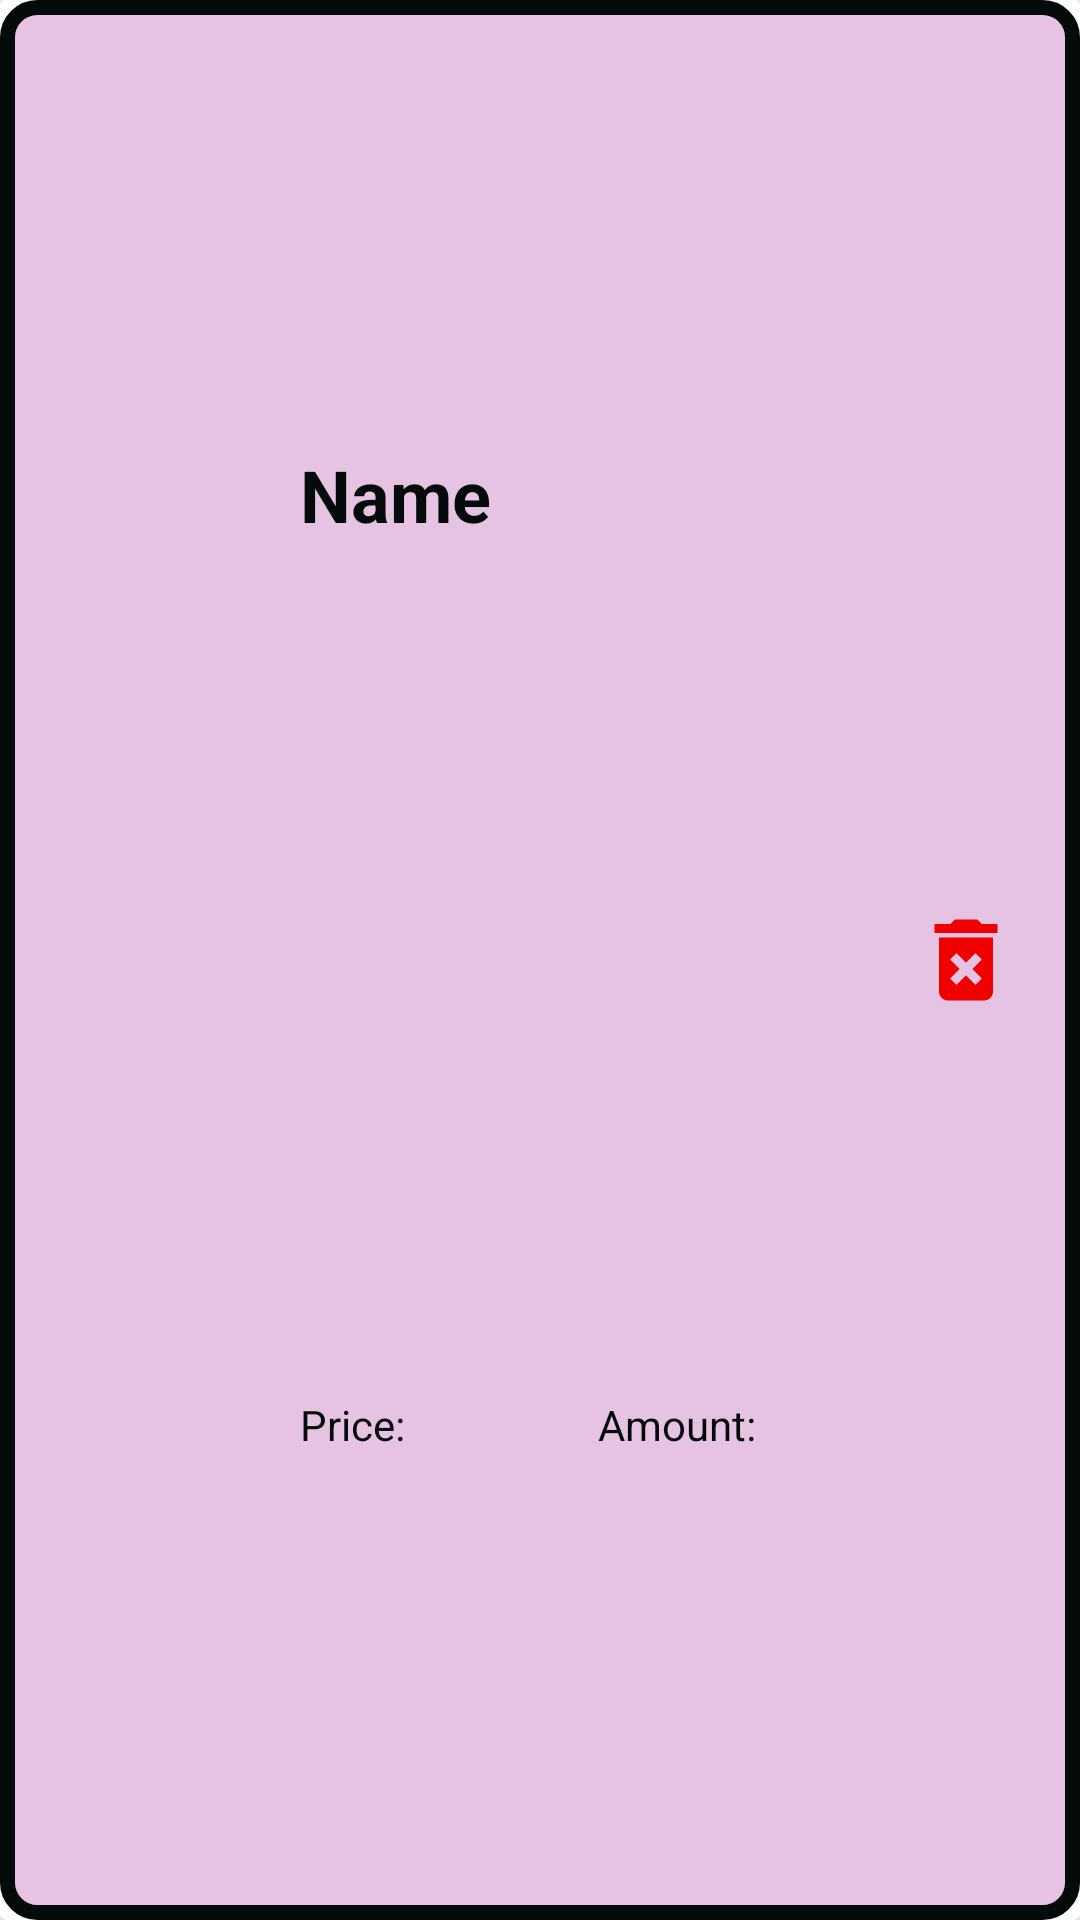

Icon click points for this 1080*1920 phone screenshot, format (x,y):
shopping item delete button: (966,960)
